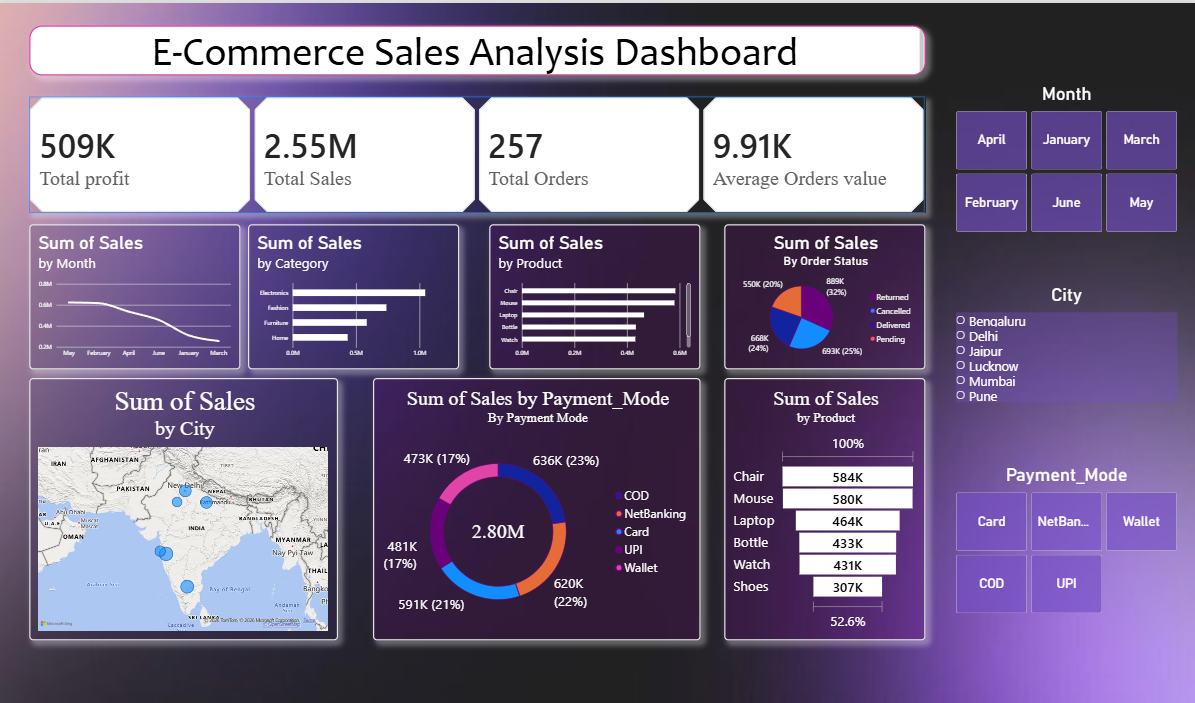

What the dashboard file says about the page in this screenshot:
{"tool":"powerbi","page":{"name":"Page 1","canvas":[2400,1400],"ordinal":0},"visuals":[{"type":"cardVisual","fields":{"Data":["DAX measures.totl_profit","DAX measures.total_sales","DAX measures.total_orders","DAX measures.avg_order_value"]},"box":[62.5,187.5,1792.5,232.5],"z":0},{"type":"textbox","box":[62.5,45,1792.5,100],"z":1000},{"type":"lineChart","fields":{"Category":["public ecommerce.Month"],"Y":["Sum(public ecommerce.Sales)"]},"box":[62.5,442.5,422.5,290],"z":2000},{"type":"barChart","fields":{"Category":["public ecommerce.Category"],"Y":["Sum(public ecommerce.Sales)"]},"box":[500,442.5,422.5,290],"z":3000},{"type":"barChart","fields":{"Category":["public ecommerce.Product"],"Y":["Sum(public ecommerce.Sales)"]},"box":[982.5,442.5,422.5,290],"z":4000},{"type":"map","fields":{"Category":["public ecommerce.City"],"Size":["Sum(public ecommerce.Sales)"]},"box":[62.5,750,617.5,525],"z":5000},{"type":"donutChart","fields":{"Category":["public ecommerce.Payment_Mode"],"Y":["Sum(public ecommerce.Sales)"]},"box":[750,750,655,525],"z":6000},{"type":"pieChart","title":"Sum of Sales","fields":{"Category":["public ecommerce.Order_Status"],"Y":["Sum(public ecommerce.Sales)"]},"box":[1452.5,442.5,402,290],"z":7000},{"type":"funnel","fields":{"Category":["public ecommerce.Product"],"Y":["Sum(public ecommerce.Sales)"]},"box":[1453,750,402,525],"z":8000},{"type":"advancedSlicerVisual","fields":{"Values":["public ecommerce.Month"]},"box":[1900,145,475,330],"z":9000},{"type":"listSlicer","fields":{"Values":["public ecommerce.City"]},"box":[1900,547.5,475,310],"z":9001},{"type":"advancedSlicerVisual","fields":{"Values":["public ecommerce.Payment_Mode"]},"box":[1900,907.5,475,330],"z":9002}]}

Visuals, with their boxes in screenshot pixels (x1, y1, x2, y2), scaled from the page's 2400x1400 canvas onto the 1195x703 screenshot:
cardVisual - DAX measures.totl_profit x DAX measures.total_sales: left=31, top=94, right=924, bottom=211
textbox: left=31, top=23, right=924, bottom=73
lineChart - public ecommerce.Month x Sum(public ecommerce.Sales): left=31, top=222, right=241, bottom=368
barChart - public ecommerce.Category x Sum(public ecommerce.Sales): left=249, top=222, right=459, bottom=368
barChart - public ecommerce.Product x Sum(public ecommerce.Sales): left=489, top=222, right=700, bottom=368
map - public ecommerce.City x Sum(public ecommerce.Sales): left=31, top=377, right=339, bottom=640
donutChart - public ecommerce.Payment_Mode x Sum(public ecommerce.Sales): left=373, top=377, right=700, bottom=640
"Sum of Sales" pieChart: left=723, top=222, right=923, bottom=368
funnel - public ecommerce.Product x Sum(public ecommerce.Sales): left=723, top=377, right=924, bottom=640
advancedSlicerVisual - public ecommerce.Month: left=946, top=73, right=1183, bottom=239
listSlicer - public ecommerce.City: left=946, top=275, right=1183, bottom=431
advancedSlicerVisual - public ecommerce.Payment_Mode: left=946, top=456, right=1183, bottom=621
